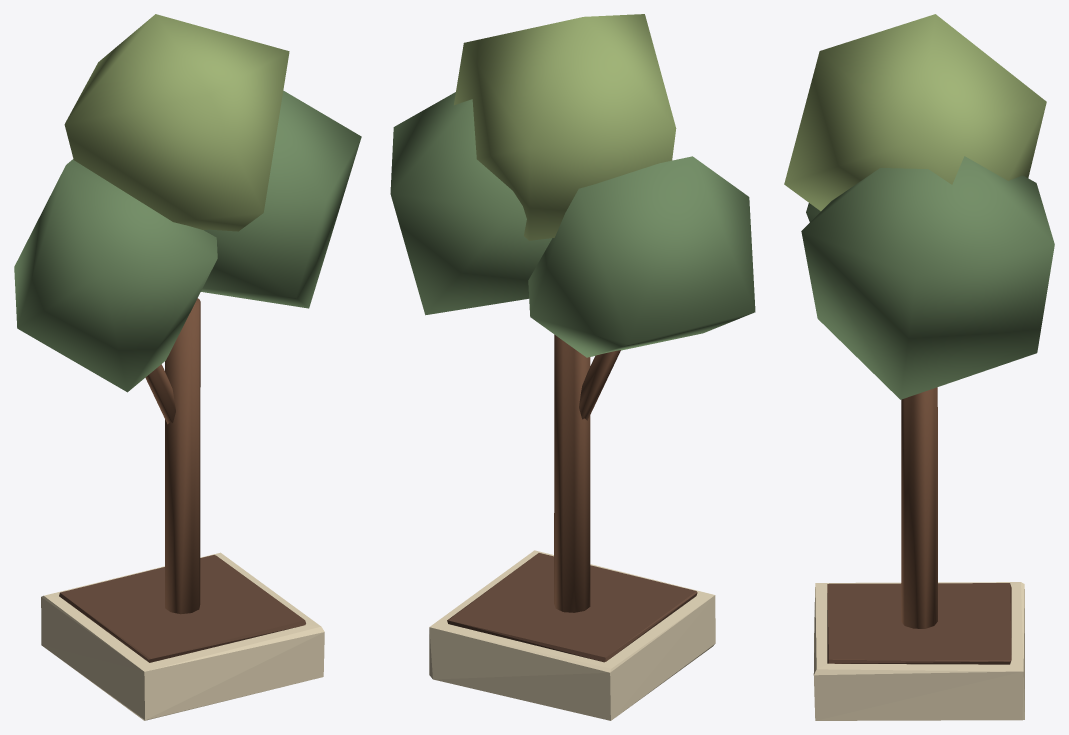
Rendered from street_tree_low.glb.
3 renders of one model, left to right at view 1: azimuth 30°, elevation 25°; view 2: azimuth 150°, elevation 25°; view 3: azimuth 270°, elevation 25°, orthographic.
Visible parts, largest first — view 1: Rounded crown.002, Rounded crown, Rounded crown.001, Tree planter, Planter soil, Tree trunk, Branch; view 2: Rounded crown, Rounded crown.002, Rounded crown.001, Tree planter, Planter soil, Tree trunk, Branch; view 3: Rounded crown.001, Rounded crown.002, Tree planter, Planter soil, Tree trunk.
Part boxes in pixels (x1,y1,x2,y2): Rounded crown.002: (64, 14, 289, 231); Rounded crown: (14, 159, 217, 392); Rounded crown.001: (201, 90, 361, 308); Tree planter: (41, 552, 324, 720); Planter soil: (59, 555, 305, 662); Tree trunk: (165, 298, 200, 614); Branch: (145, 364, 175, 424); Rounded crown: (528, 156, 755, 357); Rounded crown.002: (454, 14, 676, 240); Rounded crown.001: (390, 92, 552, 315); Tree planter: (429, 550, 715, 720); Planter soil: (447, 553, 697, 662); Tree trunk: (554, 334, 590, 612); Branch: (579, 350, 620, 420); Rounded crown.001: (801, 156, 1054, 399); Rounded crown.002: (784, 14, 1046, 211); Tree planter: (813, 582, 1024, 720); Planter soil: (827, 583, 1011, 664); Tree trunk: (901, 387, 937, 628).
Size of the model in its own units: 2.37 by 4.18 by 1.57.
